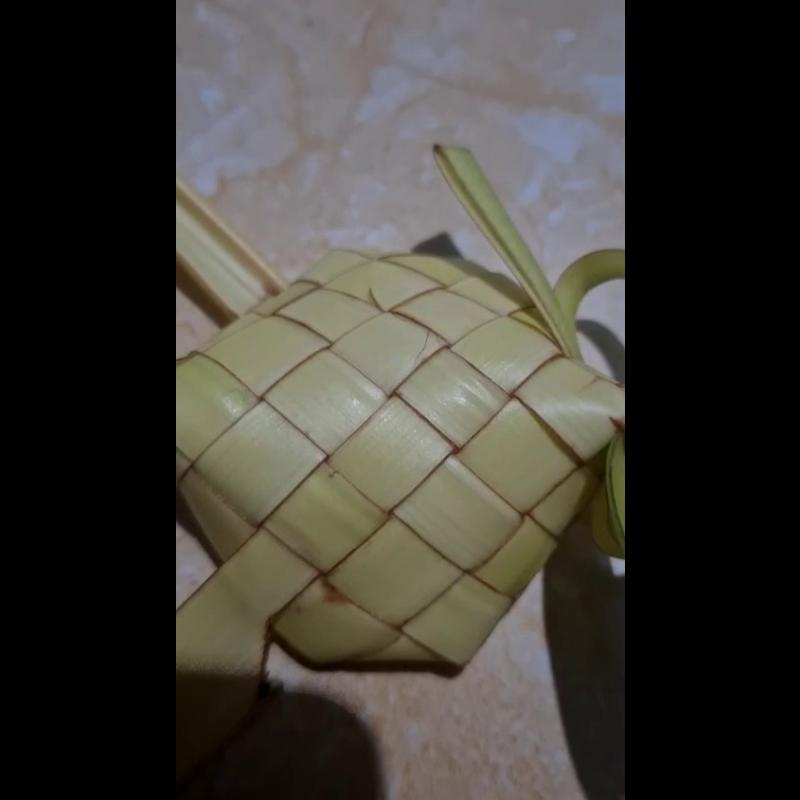Tipat Dampulan: (175, 138, 624, 784)
